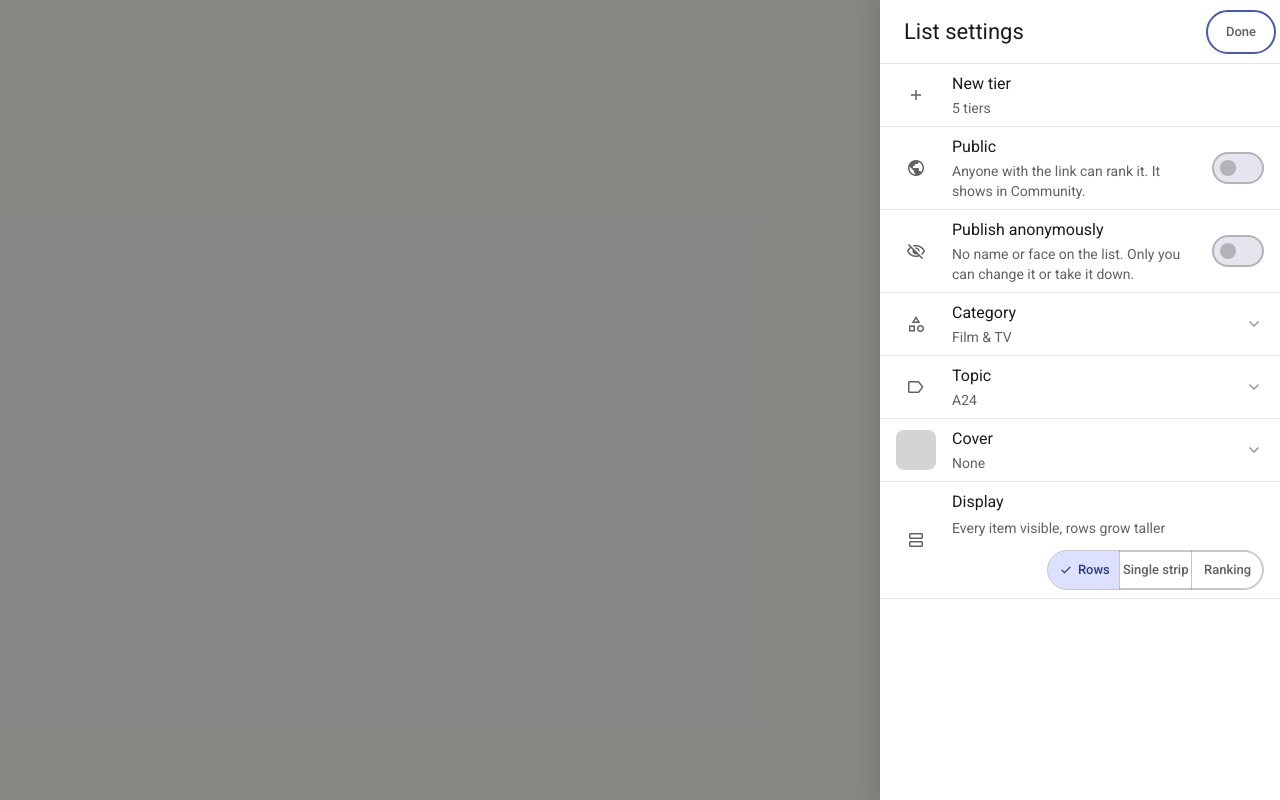
Test: BoardSettings: category and topic › picks the section from a list that a word narrows, and forgets the topic of the old one
Click the button "Category Film & TV". click: [984, 312]
box: [880,293,1279,355]
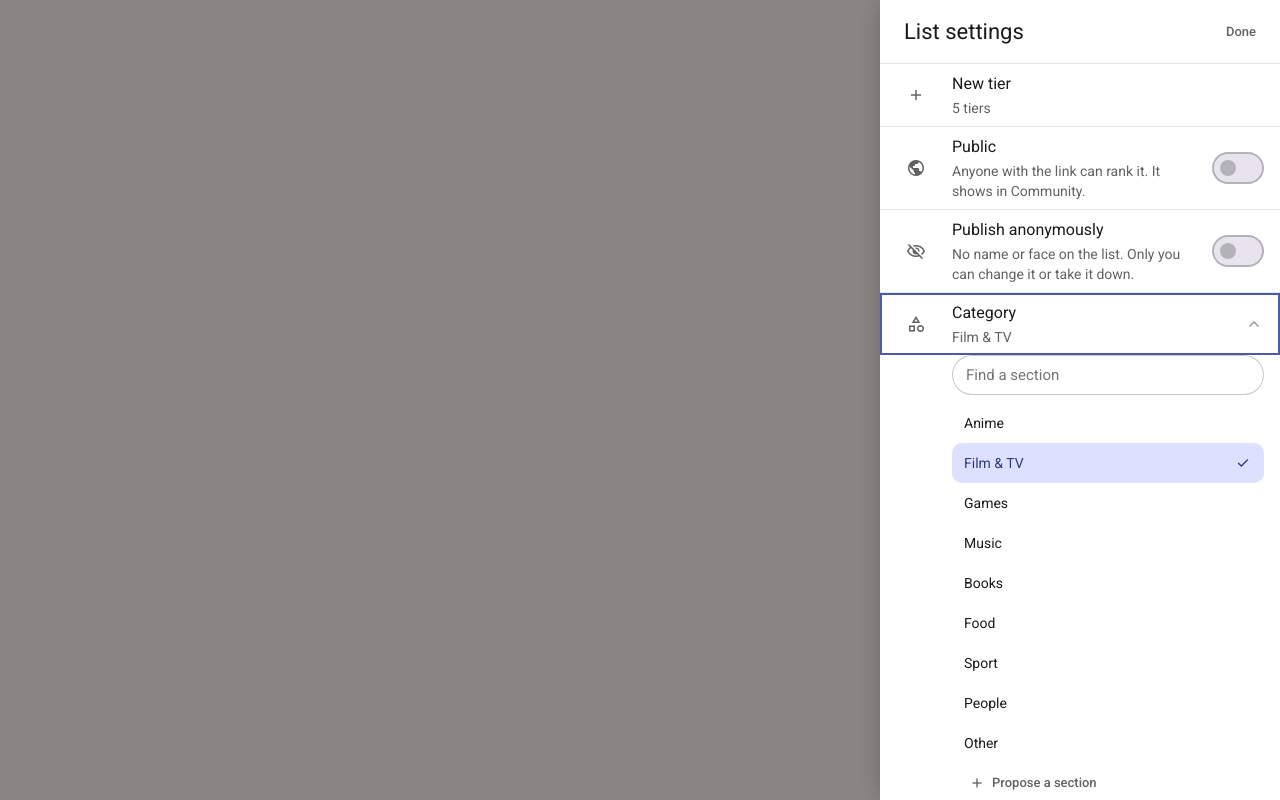
Type "gam" into the search field labelled "Find a section". click: [1108, 375]
box: [952,355,1264,395]
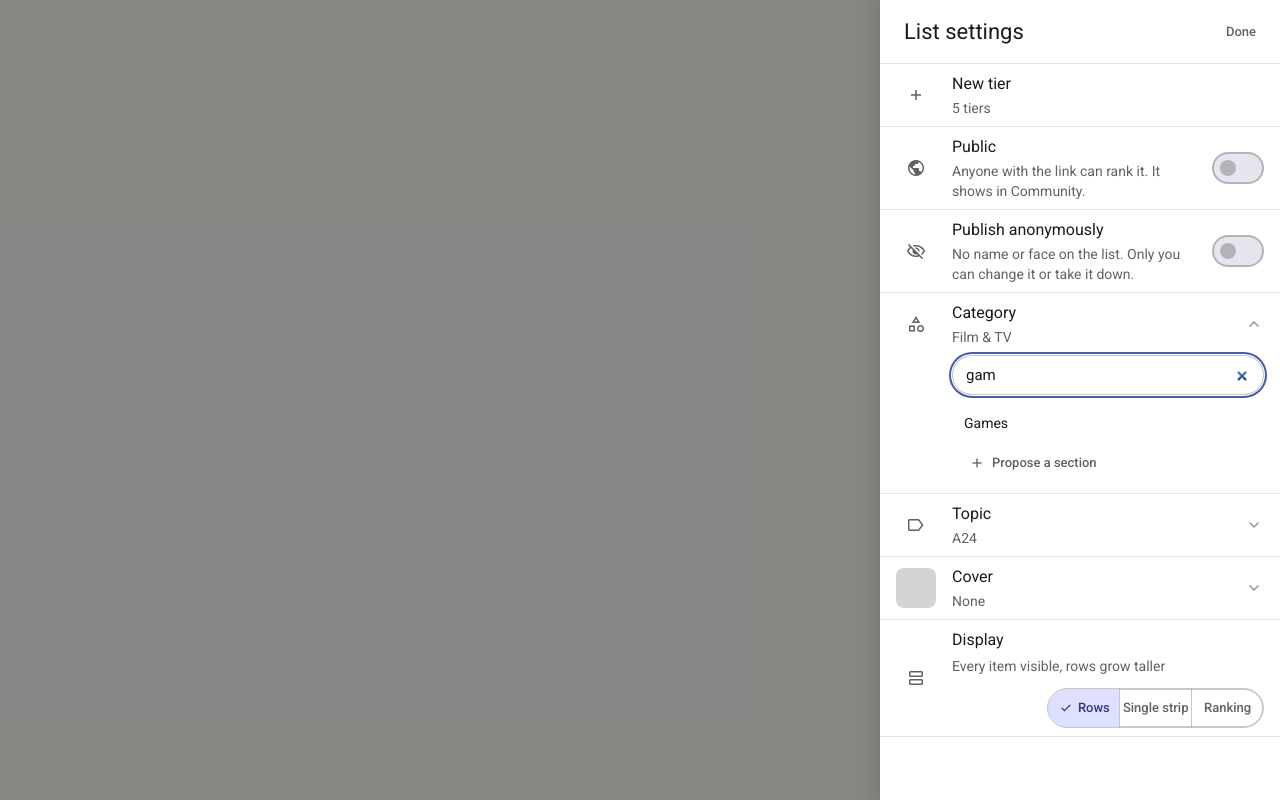
Expected: the radio buttons read "Games", in this order
Click the radio button labelled "Games". click: [986, 423]
box: [952,403,1264,443]
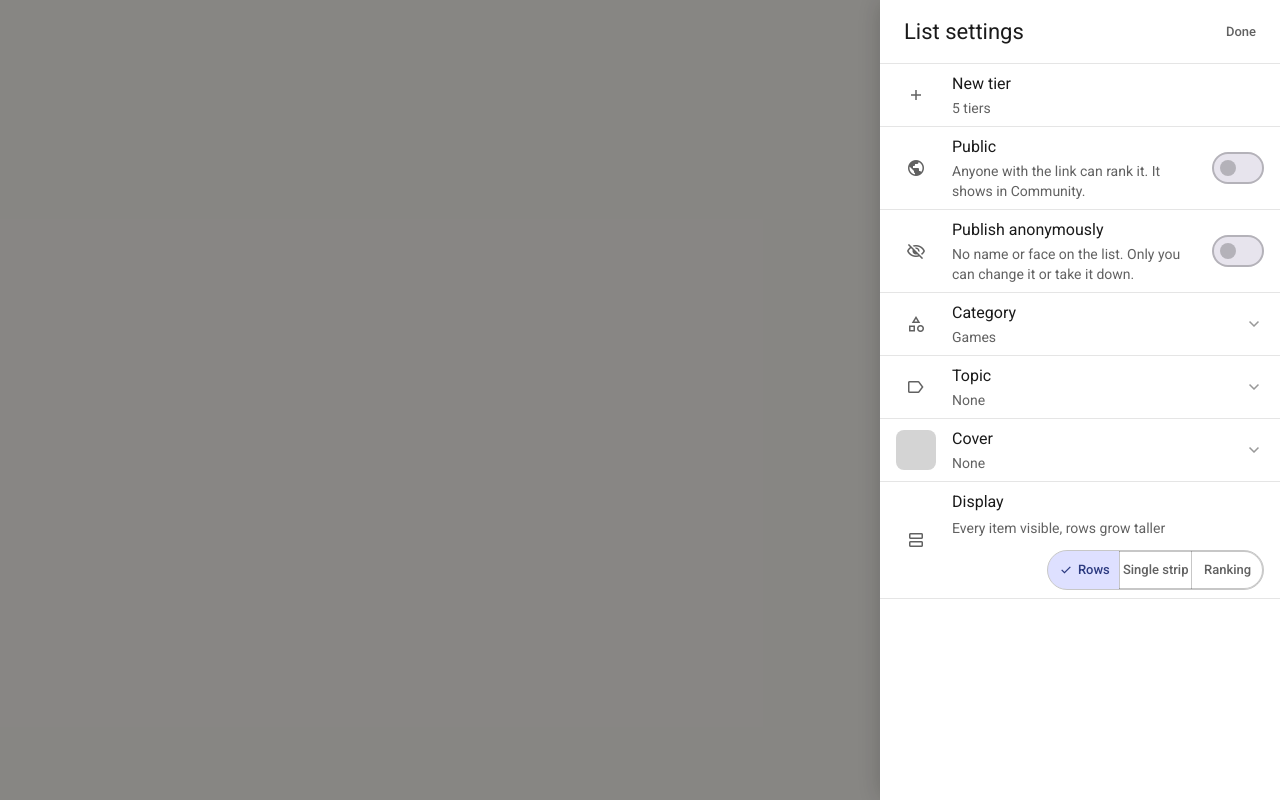
Expected: the button "Category Games" is shown, [880,293,1279,355]
